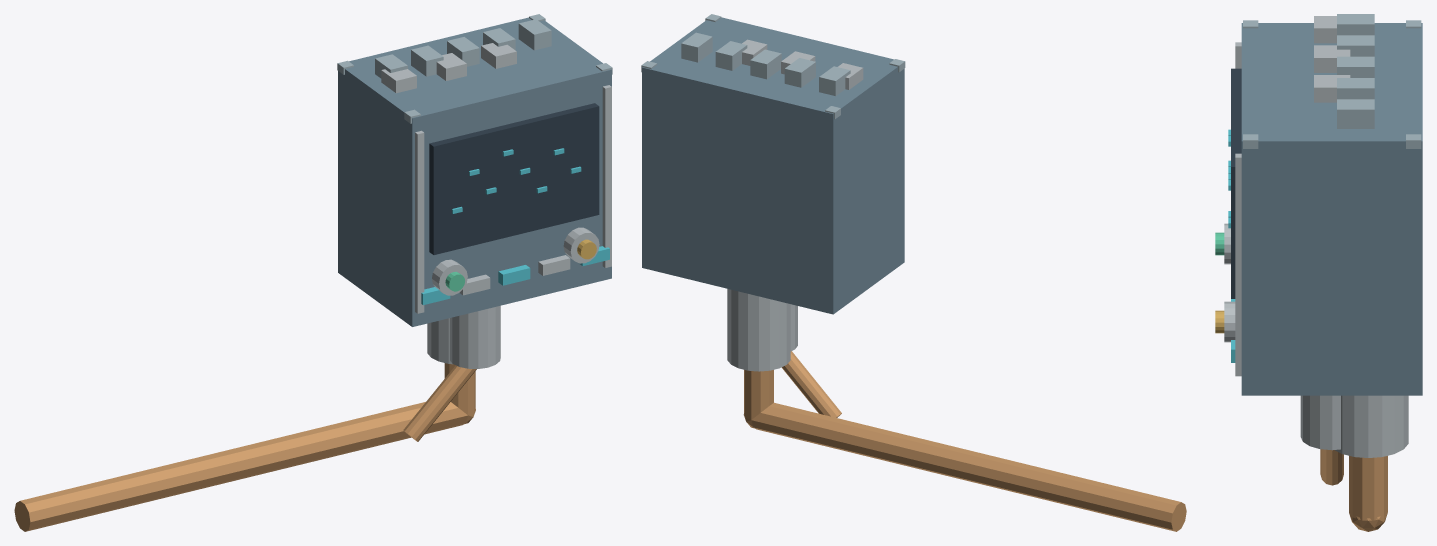
The model's file is 30_L72_CapacitancePressureManometer.glb.
3 views of the same model, side by side, from view 1: azimuth 30°, elevation 25°; view 2: azimuth 150°, elevation 25°; view 3: azimuth 270°, elevation 25° (orthographic). The views are drawn at different scales.
Visible parts, largest first — view 1: CapacitancePressureManometer_Part_000, CapacitancePressureManometer_Part_007, CapacitancePressureManometer_Part_038, CapacitancePressureManometer_Part_034, CapacitancePressureManometer_Part_005, CapacitancePressureManometer_Part_035, CapacitancePressureManometer_Part_006, CapacitancePressureManometer_Part_036, CapacitancePressureManometer_Part_028, CapacitancePressureManometer_Part_037, CapacitancePressureManometer_Part_019, CapacitancePressureManometer_Part_023 (+2 smaller); view 2: CapacitancePressureManometer_Part_000, CapacitancePressureManometer_Part_038, CapacitancePressureManometer_Part_036, CapacitancePressureManometer_Part_035, CapacitancePressureManometer_Part_037, CapacitancePressureManometer_Part_025, CapacitancePressureManometer_Part_028, CapacitancePressureManometer_Part_026, CapacitancePressureManometer_Part_027, CapacitancePressureManometer_Part_024; view 3: CapacitancePressureManometer_Part_000, CapacitancePressureManometer_Part_036, CapacitancePressureManometer_Part_037, CapacitancePressureManometer_Part_034, CapacitancePressureManometer_Part_007, CapacitancePressureManometer_Part_006, CapacitancePressureManometer_Part_028, CapacitancePressureManometer_Part_024, CapacitancePressureManometer_Part_027, CapacitancePressureManometer_Part_026, CapacitancePressureManometer_Part_035, CapacitancePressureManometer_Part_022 (+6 smaller).
Part boxes in pixels (<box>): CapacitancePressureManometer_Part_000: <box>338,17,611,326</box>; CapacitancePressureManometer_Part_007: <box>429,103,599,254</box>; CapacitancePressureManometer_Part_038: <box>14,402,467,531</box>; CapacitancePressureManometer_Part_034: <box>450,305,500,368</box>; CapacitancePressureManometer_Part_005: <box>415,130,424,313</box>; CapacitancePressureManometer_Part_035: <box>403,365,476,441</box>; CapacitancePressureManometer_Part_006: <box>602,85,611,267</box>; CapacitancePressureManometer_Part_036: <box>427,318,452,364</box>; CapacitancePressureManometer_Part_028: <box>518,19,551,50</box>; CapacitancePressureManometer_Part_037: <box>444,363,475,415</box>; CapacitancePressureManometer_Part_019: <box>563,227,599,263</box>; CapacitancePressureManometer_Part_023: <box>481,43,516,68</box>; CapacitancePressureManometer_Part_000: <box>642,17,904,314</box>; CapacitancePressureManometer_Part_038: <box>751,402,1186,531</box>; CapacitancePressureManometer_Part_036: <box>727,289,790,371</box>; CapacitancePressureManometer_Part_035: <box>781,351,841,417</box>; CapacitancePressureManometer_Part_037: <box>744,370,773,419</box>; CapacitancePressureManometer_Part_025: <box>784,58,815,87</box>; CapacitancePressureManometer_Part_028: <box>681,32,712,62</box>; CapacitancePressureManometer_Part_026: <box>750,49,781,79</box>; CapacitancePressureManometer_Part_027: <box>715,41,747,70</box>; CapacitancePressureManometer_Part_024: <box>819,66,850,96</box>; CapacitancePressureManometer_Part_000: <box>1241,23,1422,395</box>; CapacitancePressureManometer_Part_036: <box>1334,395,1408,457</box>; CapacitancePressureManometer_Part_037: <box>1349,456,1387,520</box>; CapacitancePressureManometer_Part_034: <box>1300,395,1340,450</box>; CapacitancePressureManometer_Part_007: <box>1231,68,1241,298</box>; CapacitancePressureManometer_Part_006: <box>1235,153,1241,376</box>; CapacitancePressureManometer_Part_028: <box>1337,99,1374,128</box>; CapacitancePressureManometer_Part_024: <box>1337,14,1374,35</box>; CapacitancePressureManometer_Part_027: <box>1337,78,1374,99</box>; CapacitancePressureManometer_Part_026: <box>1337,56,1374,77</box>; CapacitancePressureManometer_Part_035: <box>1320,449,1343,485</box>; CapacitancePressureManometer_Part_022: <box>1314,45,1350,72</box>.
Size of the model in its own units: 1.67 by 1.14 by 0.4585.
